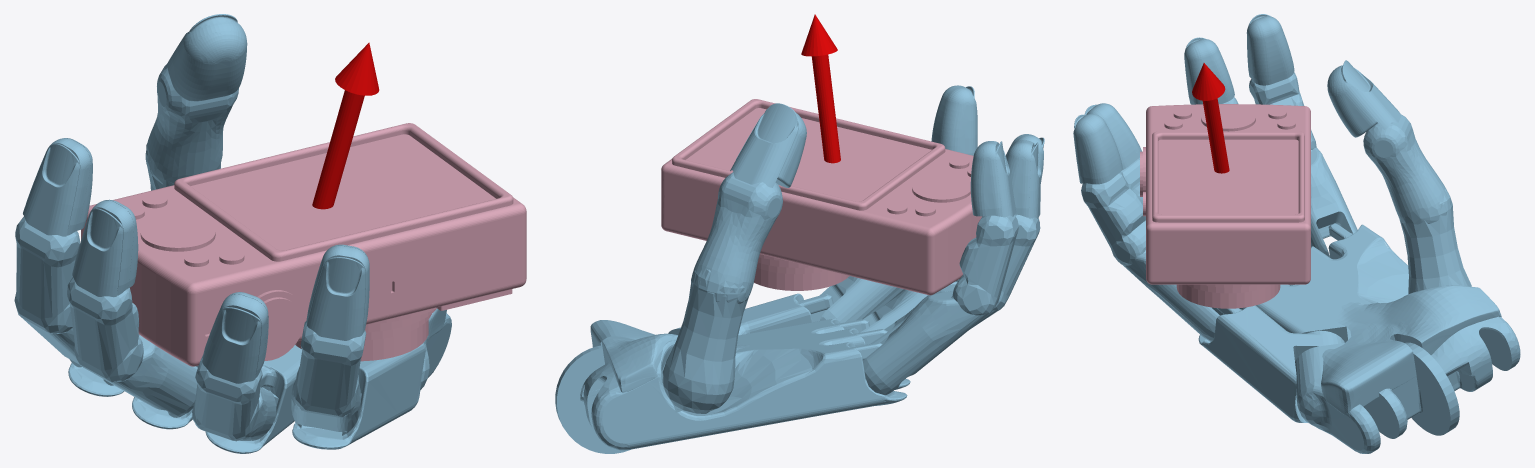
3 renders of one model, left to right at view 1: azimuth 30°, elevation 25°; view 2: azimuth 150°, elevation 25°; view 3: azimuth 270°, elevation 25°, orthographic. The views are drawn at different scales.
Parts seen in each view (by area): view 1: world, camera.stl; view 2: world, camera.stl; view 3: world, camera.stl.
Part boxes in pixels (<box>): world: <box>14,14,451,453</box>; camera.stl: <box>81,123,526,366</box>; world: <box>555,14,1044,453</box>; camera.stl: <box>661,99,981,295</box>; world: <box>1073,14,1520,453</box>; camera.stl: <box>1140,104,1310,308</box>.
Size of the model in its own units: 0.1636 by 0.1447 by 0.1755.
